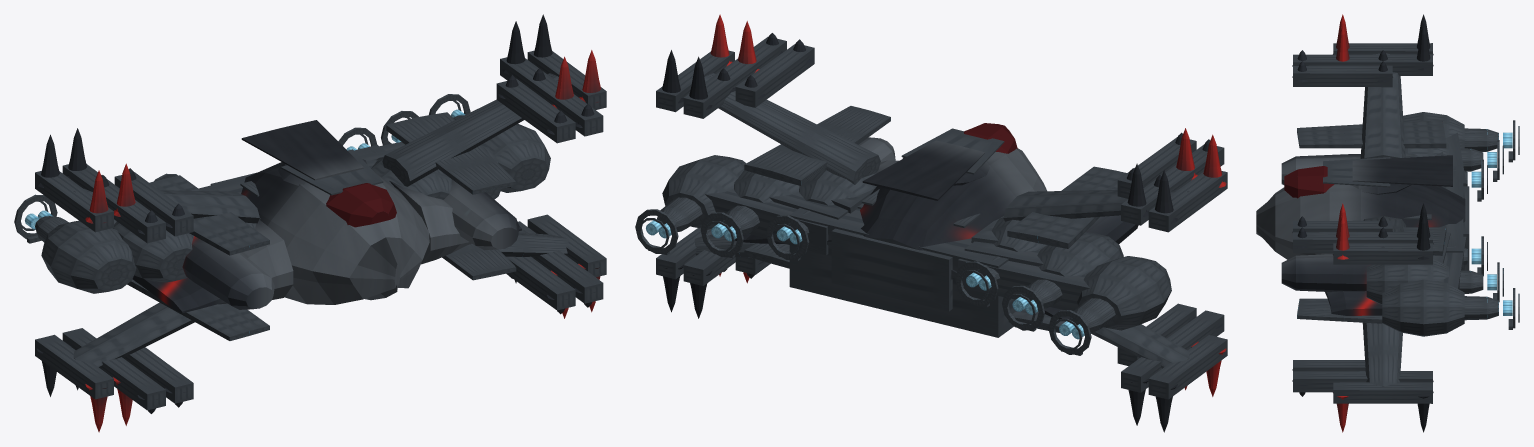
The model's file is spaceship_terminator.obj.
3 renders of one model, left to right at view 1: azimuth 30°, elevation 25°; view 2: azimuth 150°, elevation 25°; view 3: azimuth 270°, elevation 25°, orthographic. The views are drawn at different scales.
Parts seen in each view (by area): view 1: spaceship_terminator; view 2: spaceship_terminator; view 3: spaceship_terminator.
Part boxes in pixels (x1,y1,x2,y2): spaceship_terminator: [14, 14, 606, 432]; spaceship_terminator: [635, 14, 1227, 432]; spaceship_terminator: [1256, 14, 1519, 432].
Bounding box in the file's own units: 15.23 × 7.4 × 8.06.
1 material, 1 textured.
